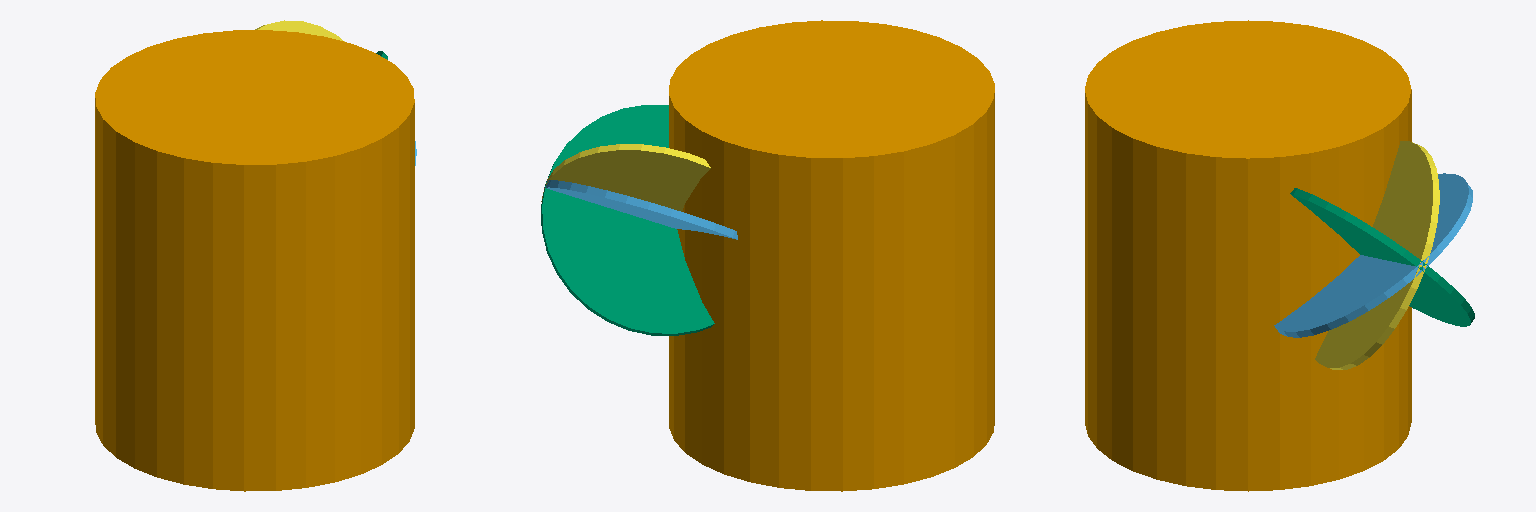
The robot description file, URDF, robot "pepe":
<?xml version="1.0"?><robot name="pepe">
	<link name="0">
		<visual>
			<geometry>
				<cylinder length="2.052335271366942" radius="0.9127046226389154"/>
			</geometry>
		</visual>
		<collision>
			<geometry>
				<cylinder length="2.052335271366942" radius="0.9127046226389154"/>
			</geometry>
		</collision>
		<inertial>
			<mass value="5.371043651051132"/>
			<inertia ixx="0.03" iyy="0.03" izz="0.03" ixy="0" ixz="0" iyx="0"/>
		</inertial>
	</link>
	<link name="11">
		<visual>
			<geometry>
				<cylinder length="0.04355805341238683" radius="0.6743155374042407"/>
			</geometry>
		</visual>
		<collision>
			<geometry>
				<cylinder length="0.04355805341238683" radius="0.6743155374042407"/>
			</geometry>
		</collision>
		<inertial>
			<mass value="0.06222210067437925"/>
			<inertia ixx="0.03" iyy="0.03" izz="0.03" ixy="0" ixz="0" iyx="0"/>
		</inertial>
	</link>
	<link name="12">
		<visual>
			<geometry>
				<cylinder length="0.04355805341238683" radius="0.6743155374042407"/>
			</geometry>
		</visual>
		<collision>
			<geometry>
				<cylinder length="0.04355805341238683" radius="0.6743155374042407"/>
			</geometry>
		</collision>
		<inertial>
			<mass value="0.06222210067437925"/>
			<inertia ixx="0.03" iyy="0.03" izz="0.03" ixy="0" ixz="0" iyx="0"/>
		</inertial>
	</link>
	<link name="13">
		<visual>
			<geometry>
				<cylinder length="0.04355805341238683" radius="0.6743155374042407"/>
			</geometry>
		</visual>
		<collision>
			<geometry>
				<cylinder length="0.04355805341238683" radius="0.6743155374042407"/>
			</geometry>
		</collision>
		<inertial>
			<mass value="0.06222210067437925"/>
			<inertia ixx="0.03" iyy="0.03" izz="0.03" ixy="0" ixz="0" iyx="0"/>
		</inertial>
	</link>
	<joint name="11_to_0" type="revolute">
		<parent link="0"/>
		<child link="11"/>
		<axis xyz="0 0 1"/>
		<limit effort="1" upper="-3.1415" lower="3.1415" velocity="1"/>
		<origin rpy="3.665627021291142 3.4461957487232304 3.601878256724205" xyz="0.7079929209110009 0.6897527556007799 0.33257736655265435"/>
	</joint>
	<joint name="12_to_0" type="revolute">
		<parent link="0"/>
		<child link="12"/>
		<axis xyz="0 0 1"/>
		<limit effort="1" upper="-3.1415" lower="3.1415" velocity="1"/>
		<origin rpy="5.498440531936713 3.4461957487232304 3.601878256724205" xyz="0.7079929209110009 0.6897527556007799 0.33257736655265435"/>
	</joint>
	<joint name="13_to_0" type="revolute">
		<parent link="0"/>
		<child link="13"/>
		<axis xyz="0 0 1"/>
		<limit effort="1" upper="-3.1415" lower="3.1415" velocity="1"/>
		<origin rpy="7.331254042582284 3.4461957487232304 3.601878256724205" xyz="0.7079929209110009 0.6897527556007799 0.33257736655265435"/>
	</joint>
</robot>

--- Facts derived from the render (not from the file) ---
3 views of the same robot in one strip: view 1: azimuth 30°, elevation 25°; view 2: azimuth 150°, elevation 25°; view 3: azimuth 270°, elevation 25° (orthographic).
Robot: pepe — 4 links, 3 joints (3 revolute); root link 0; default pose: all joints at 0.
Visible links, largest first — view 1: 0, 13; view 2: 0, 12, 13, 11; view 3: 0, 13, 11, 12.
Boxes of the visible links, box(x1,y1,x2,y2) form: 0: box(95, 30, 414, 491); 13: box(255, 20, 344, 41); 0: box(669, 20, 994, 491); 12: box(541, 105, 714, 335); 13: box(541, 144, 710, 211); 11: box(544, 180, 737, 239); 0: box(1085, 20, 1411, 491); 13: box(1315, 141, 1439, 369); 11: box(1274, 173, 1472, 337); 12: box(1290, 188, 1474, 326).
Size in the robot's own frame: 2.29 by 2.18 by 2.05 metres.
Geometry: primitives only (box / cylinder / sphere), no mesh files.
